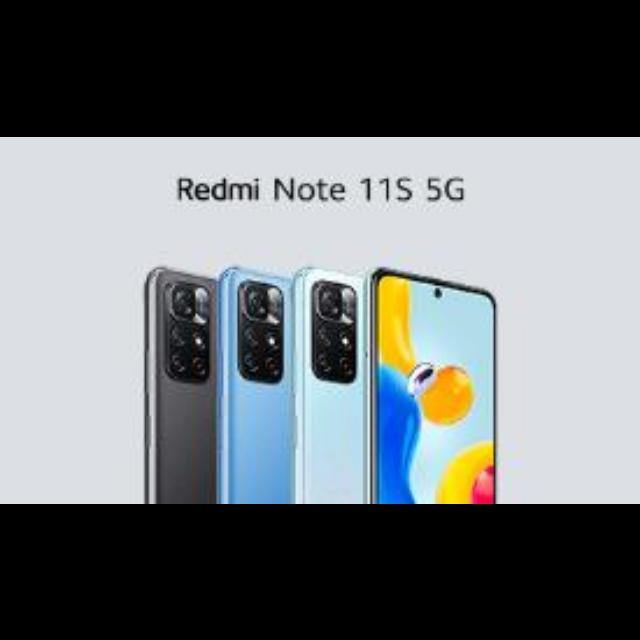Phone: (366, 264, 496, 503), (289, 264, 365, 503), (142, 264, 216, 503), (217, 264, 289, 503)
